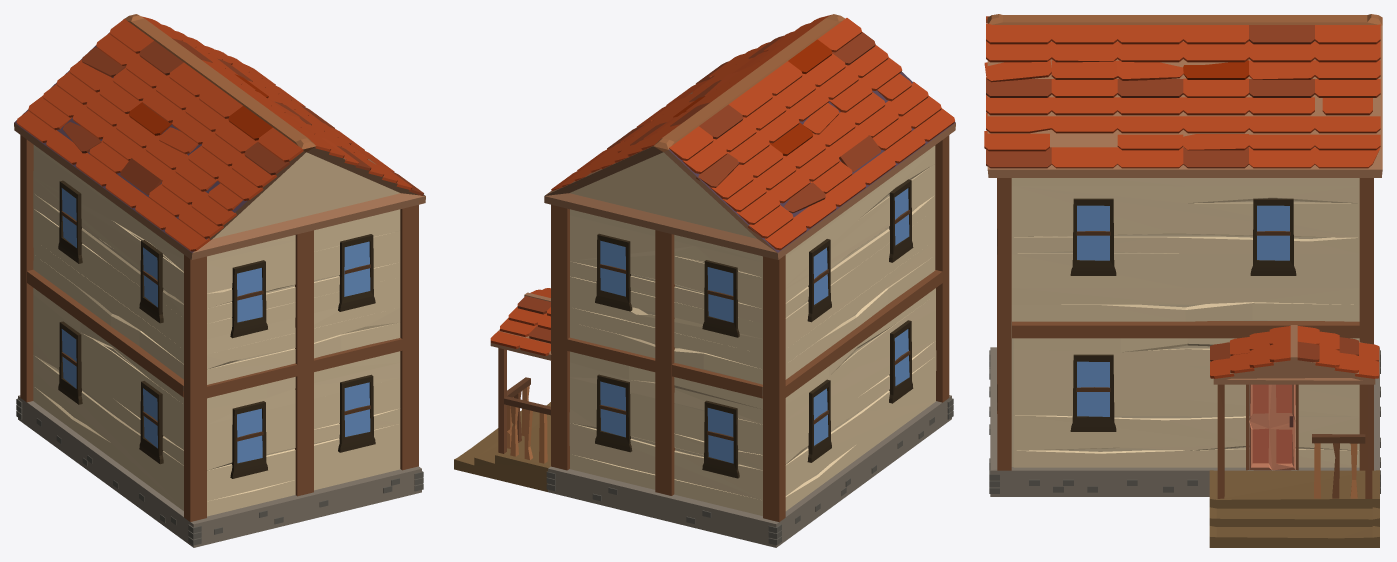
The model's file is House_2.fbx.
3 renders of one model, left to right at view 1: azimuth 30°, elevation 25°; view 2: azimuth 150°, elevation 25°; view 3: azimuth 270°, elevation 25°, orthographic. The views are drawn at different scales.
Parts seen in each view (by area): view 1: House_2.001; view 2: House_2.001; view 3: House_2.001.
Part boxes in pixels (box(x1,y1,x2,y2)): House_2.001: box(14, 14, 425, 547); House_2.001: box(454, 14, 955, 547); House_2.001: box(984, 14, 1382, 547).
Size of the model in its own units: 962 by 1069 by 920.
